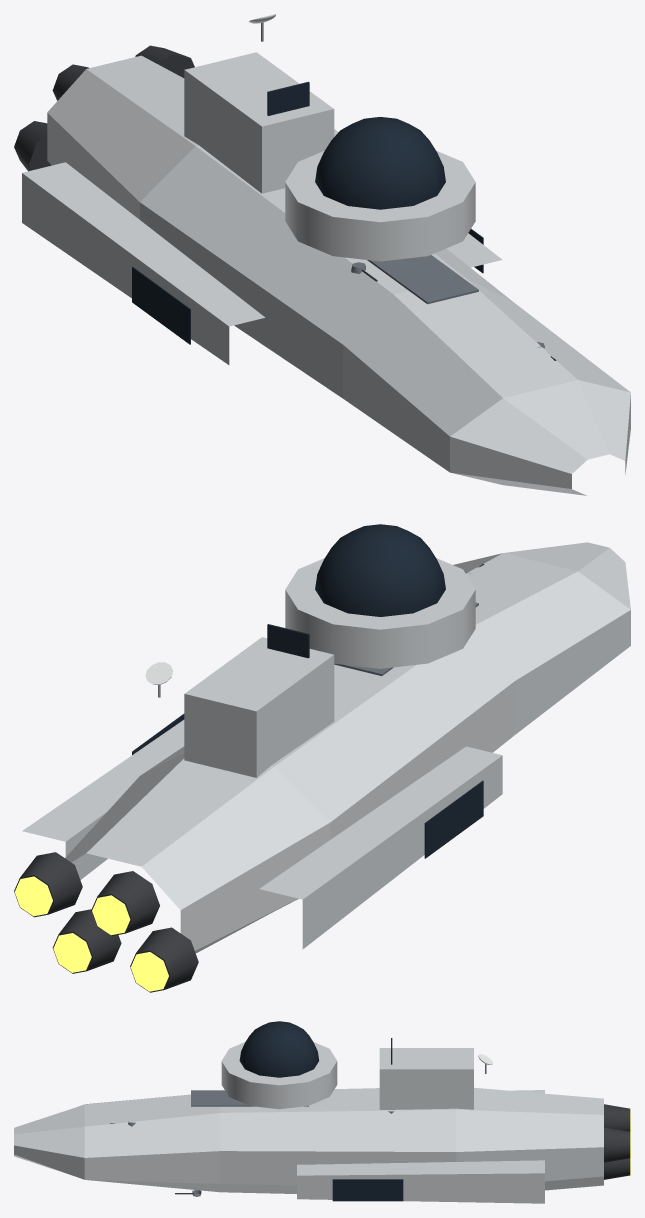
File: space_ship_command_ship_mk2.glb
The picture shows the model from 3 angles, top to bottom: view 1: azimuth 30°, elevation 25°; view 2: azimuth 150°, elevation 25°; view 3: azimuth 270°, elevation 25°; orthographic projection. The views are drawn at different scales.
Parts seen in each view (by area): view 1: body, hangar_r, engine_0, engine_3; view 2: body, engine_0, engine_3, engine_1, engine_2, hangar_r; view 3: body, hangar_l, engine_3, engine_1, engine_2.
Boxes of the visible parts, x1,y1,x2,y2 form: body: [22, 52, 630, 495]; hangar_r: [132, 266, 190, 344]; engine_0: [14, 121, 51, 171]; engine_3: [135, 45, 194, 77]; body: [22, 524, 630, 953]; engine_0: [130, 927, 198, 992]; engine_3: [14, 852, 82, 917]; engine_1: [91, 871, 159, 936]; engine_2: [52, 909, 121, 973]; hangar_r: [424, 780, 483, 858]; body: [14, 1021, 603, 1203]; hangar_l: [332, 1179, 403, 1201]; engine_3: [604, 1127, 630, 1162]; engine_1: [604, 1104, 630, 1132]; engine_2: [604, 1157, 630, 1179].
Size of what is drawn, in the model's own units: 31.34 by 27.04 by 93.72.
